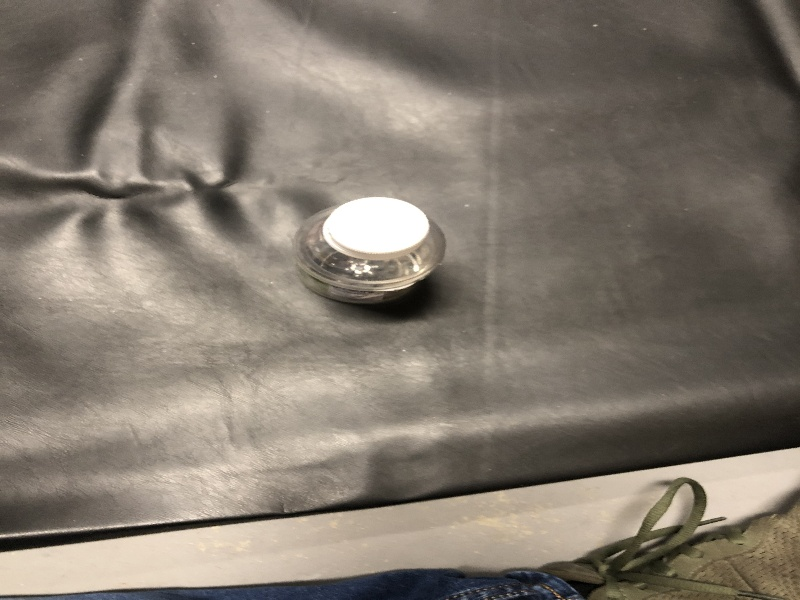plastic: (280, 186, 455, 319)
